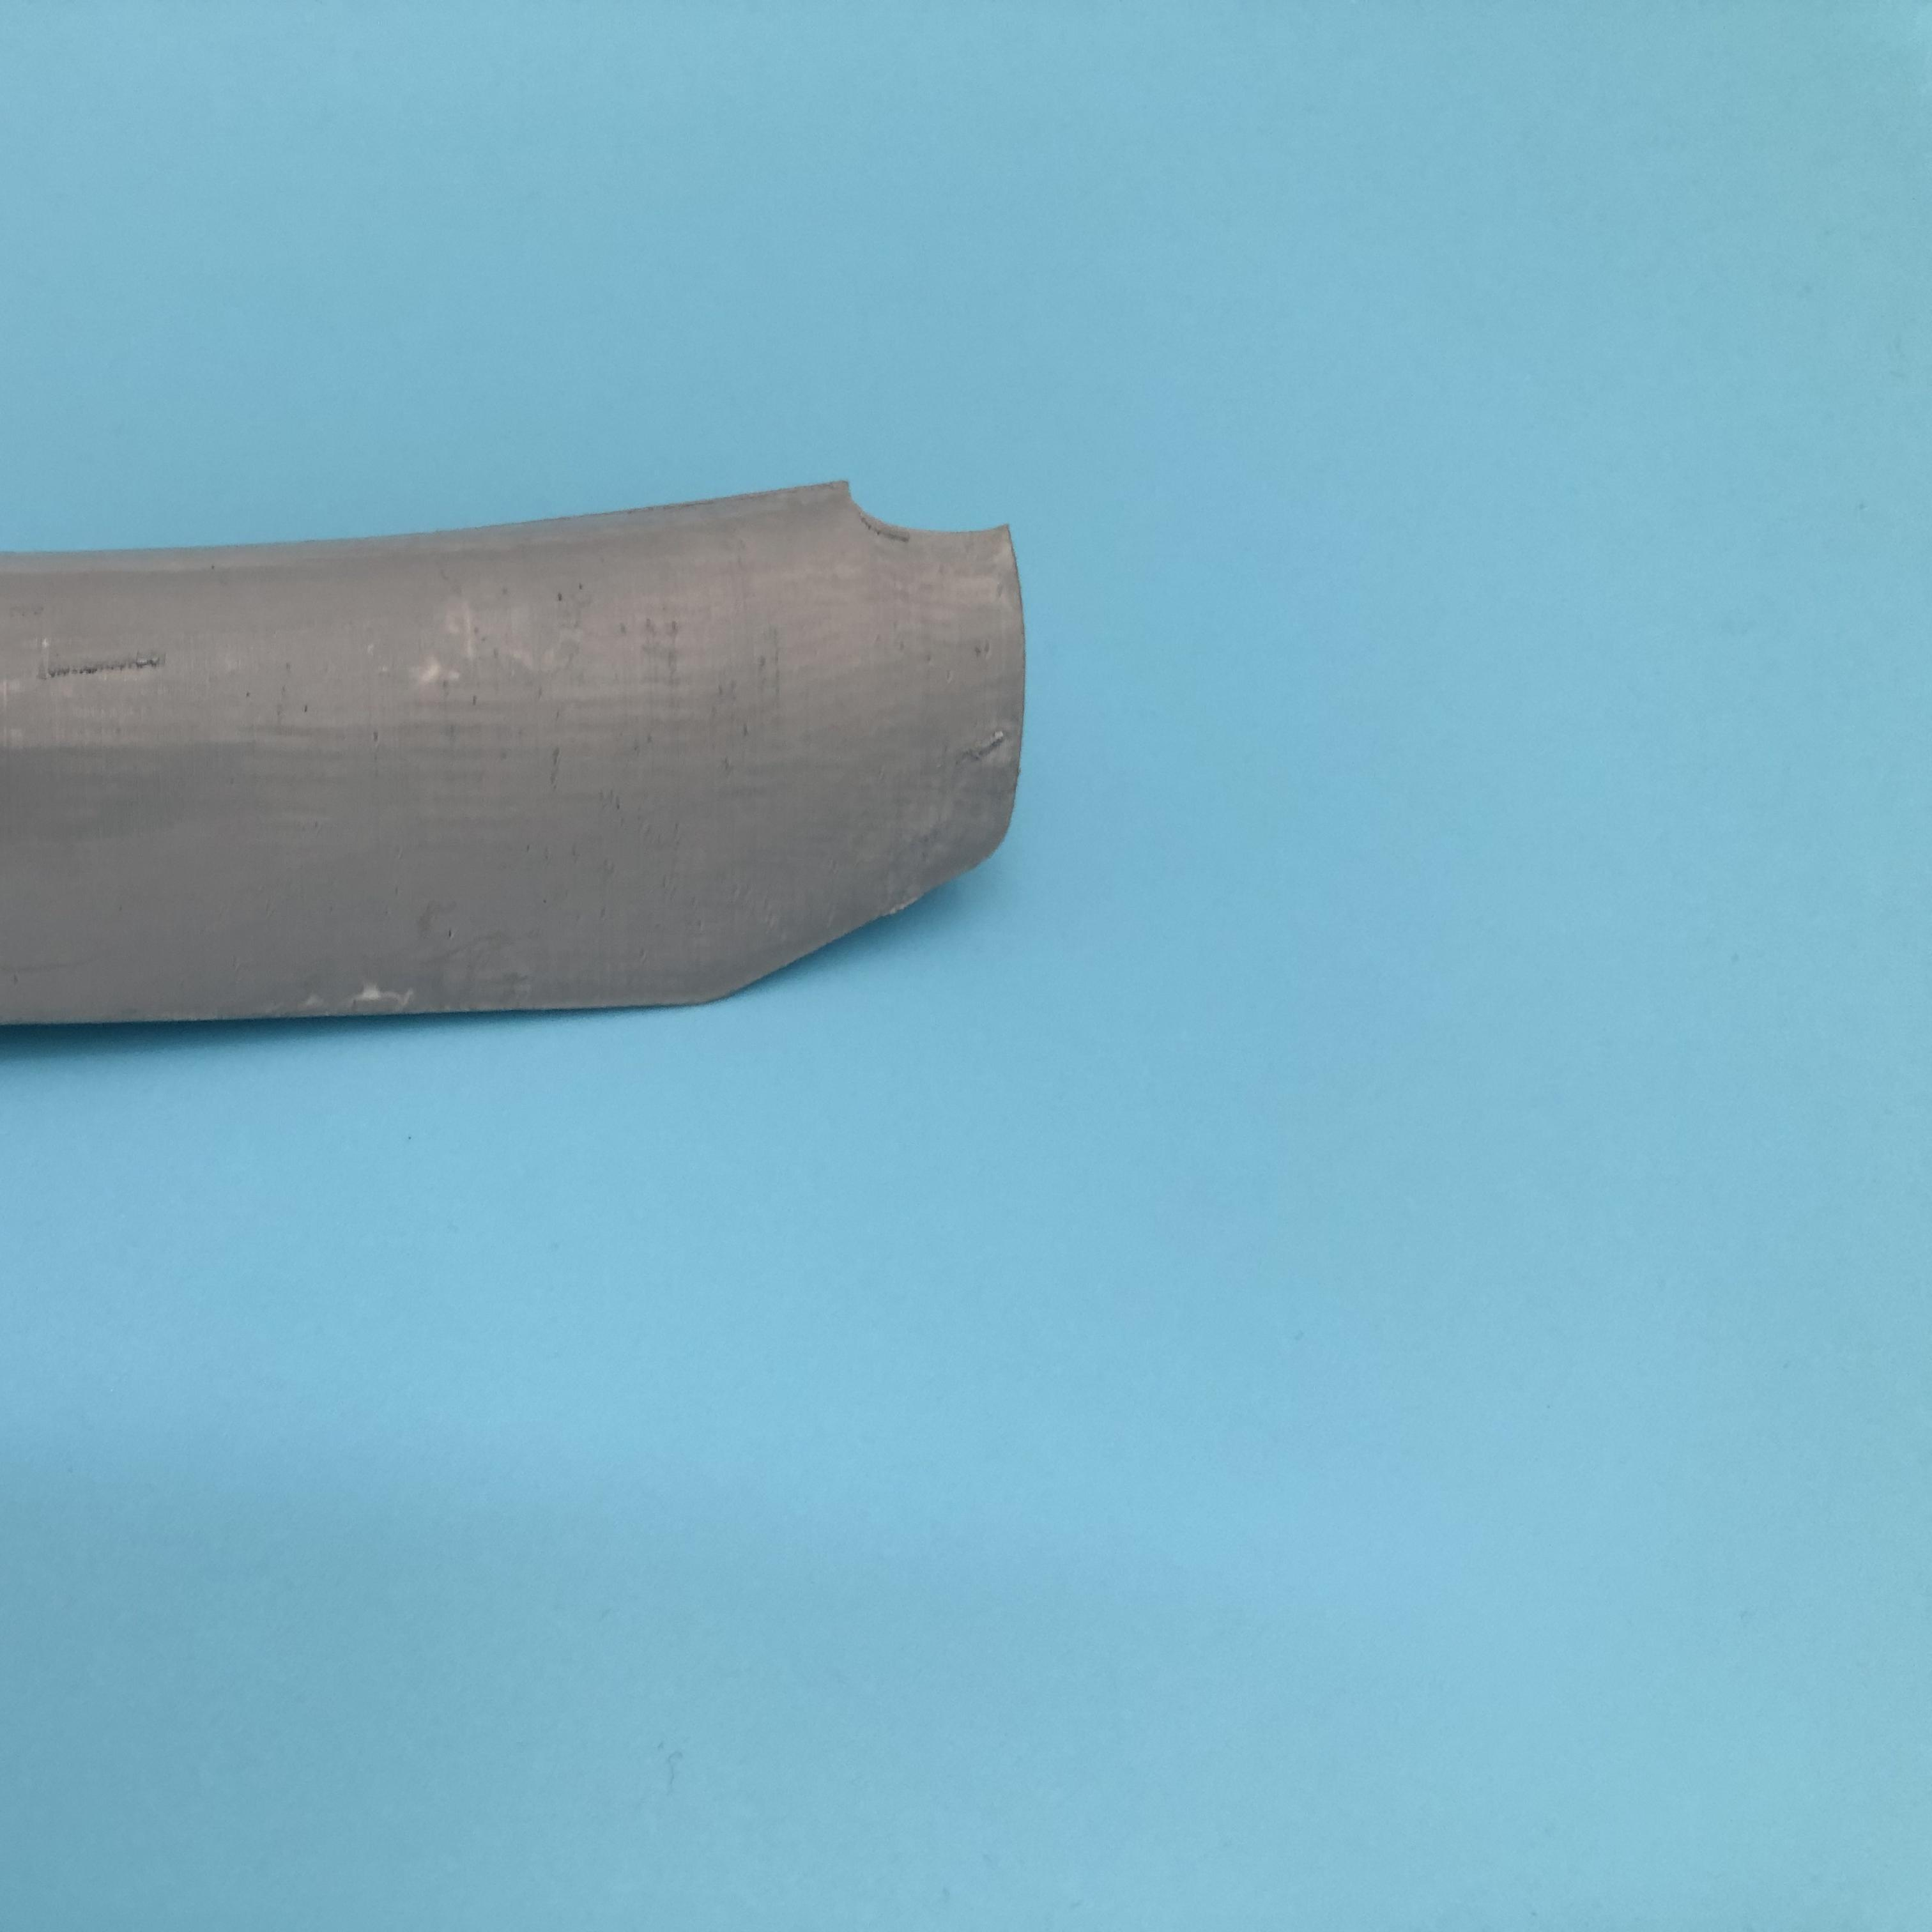fracture: (819, 474, 998, 575)
